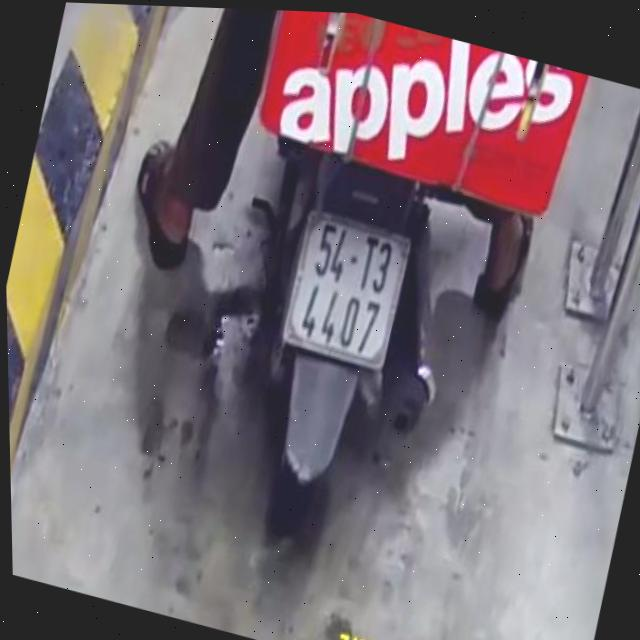motorcycle: (168, 116, 507, 564)
plate: (272, 204, 416, 374)
